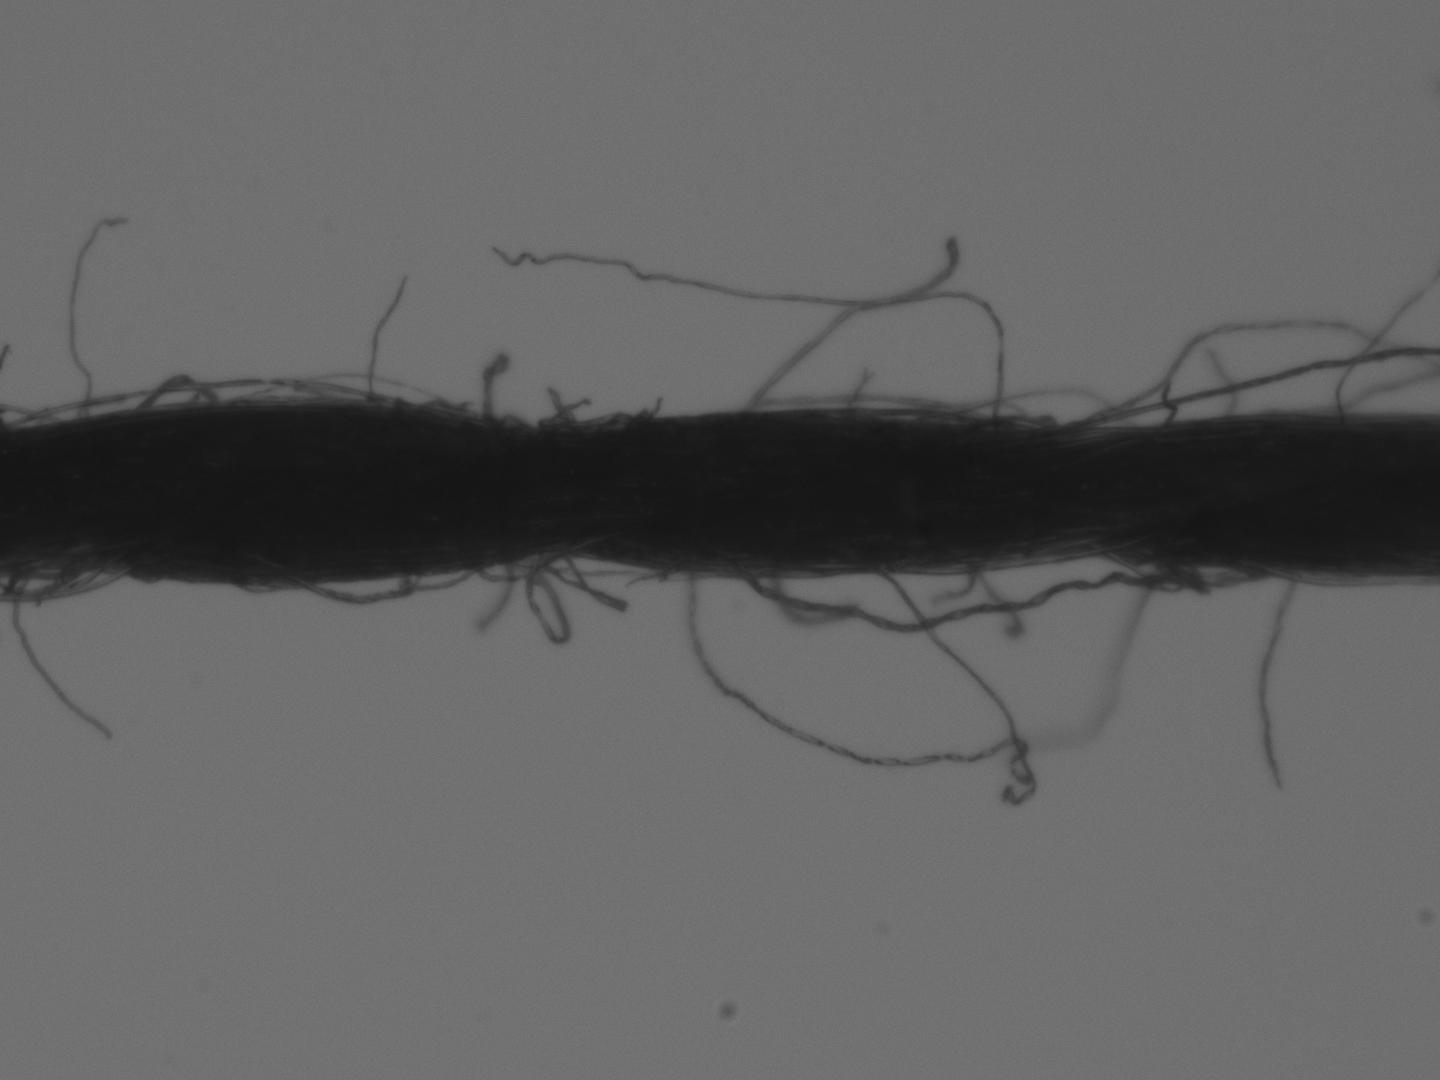loop_fiber: (732, 550, 1181, 635), (459, 563, 579, 647), (249, 366, 452, 414), (277, 562, 477, 609), (1102, 555, 1261, 599), (541, 378, 660, 434), (2, 557, 132, 607), (122, 369, 223, 423), (947, 407, 1062, 440)
protruding_fiber: (60, 208, 138, 428), (1252, 569, 1303, 794)
